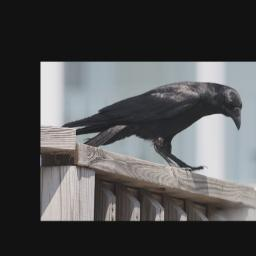Crow: (60, 80, 243, 171)
